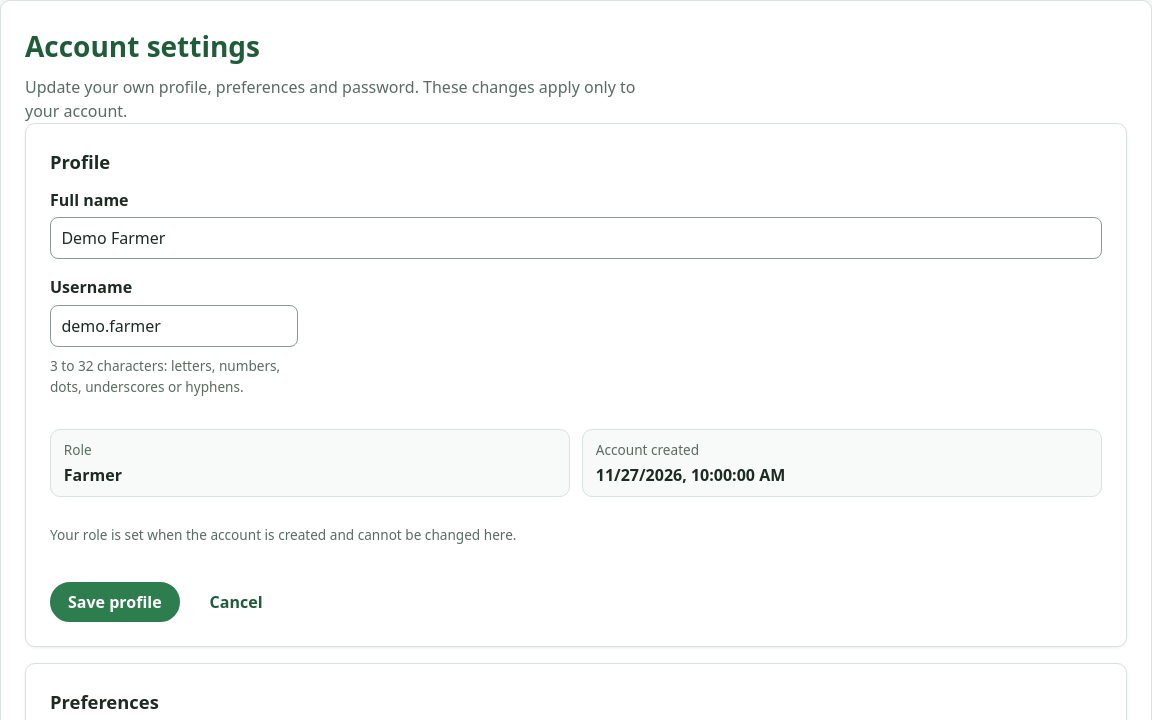
Test case: AccountSettingsPage › saves a changed name, shows success and refreshes the session
Replace the text in the field labelled "Full name" with "  Asha Grower " at coordinates (576, 238), box [50, 217, 1102, 259]
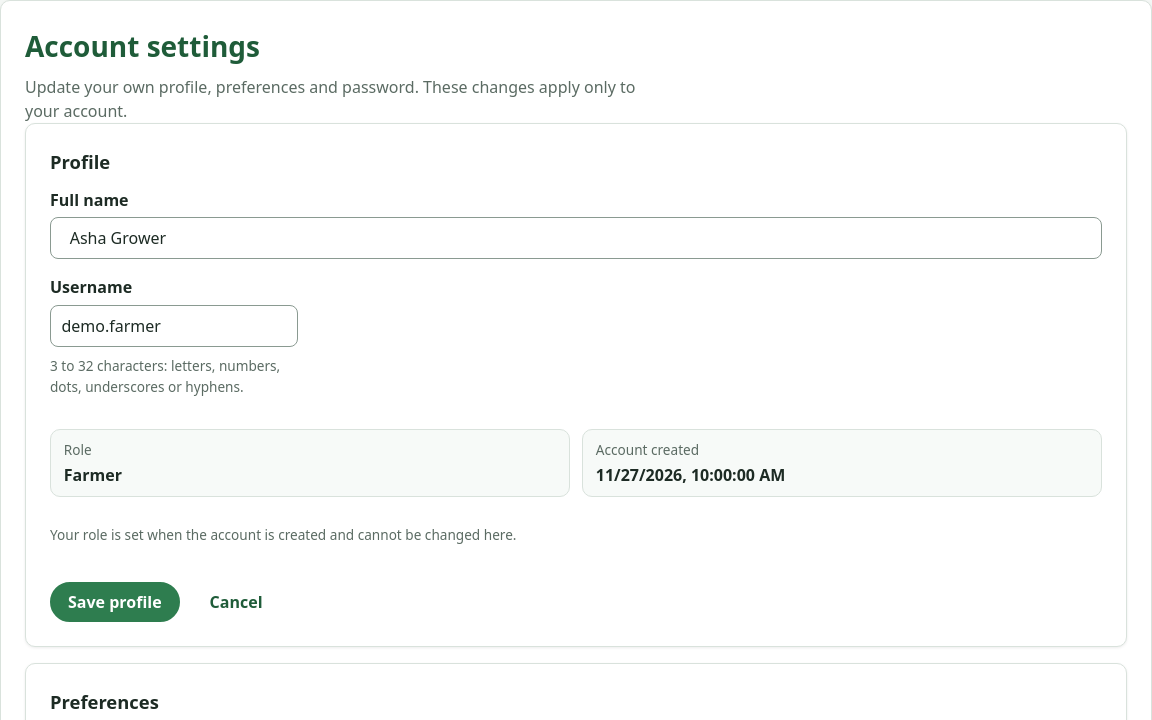
Click the button "Save profile" at coordinates (115, 602), box [50, 582, 180, 622]
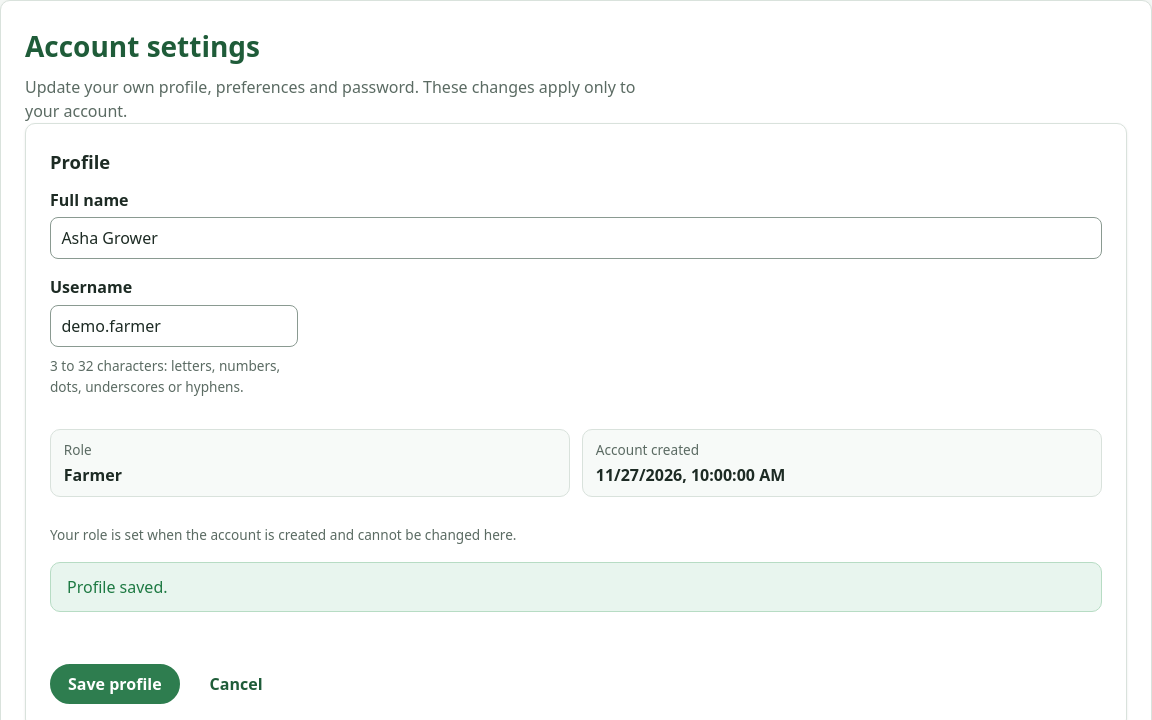
Now the text "Profile saved." is shown, box [50, 562, 1102, 612]
